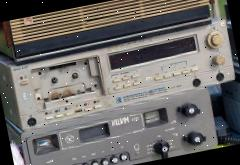electronic: (0, 7, 240, 134)
